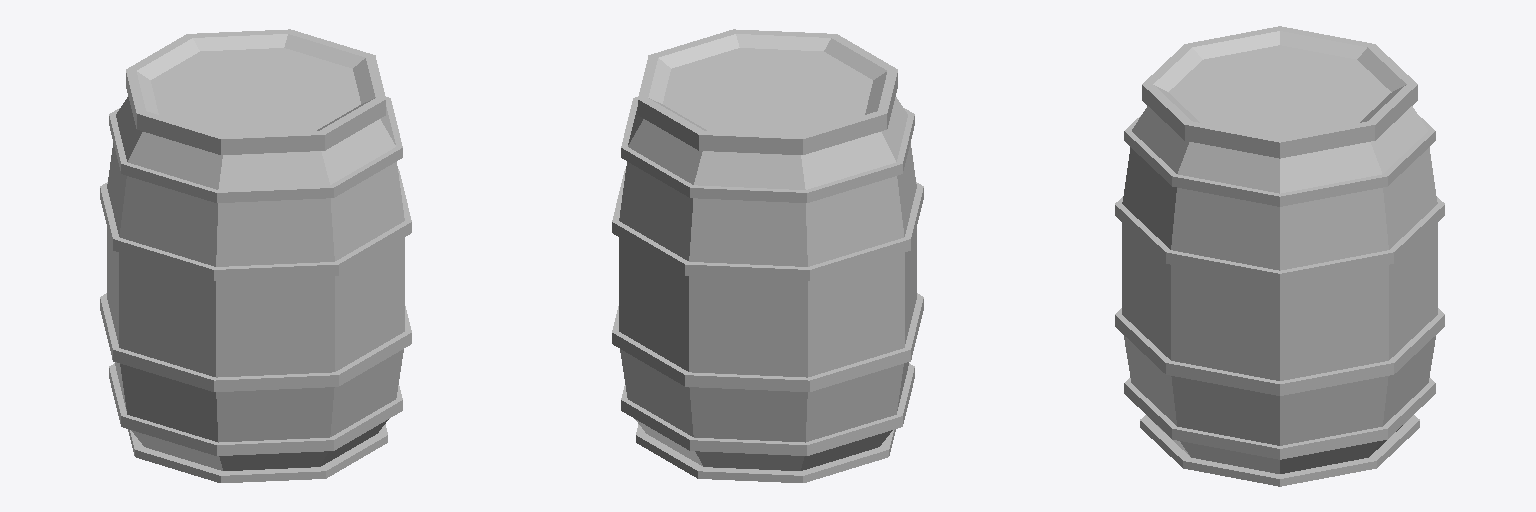
File: barrel.obj
3 views of the same model, side by side, from view 1: azimuth 30°, elevation 25°; view 2: azimuth 150°, elevation 25°; view 3: azimuth 270°, elevation 25° (orthographic).
Bounding box in the file's own units: 2.36 × 2.7 × 2.36.